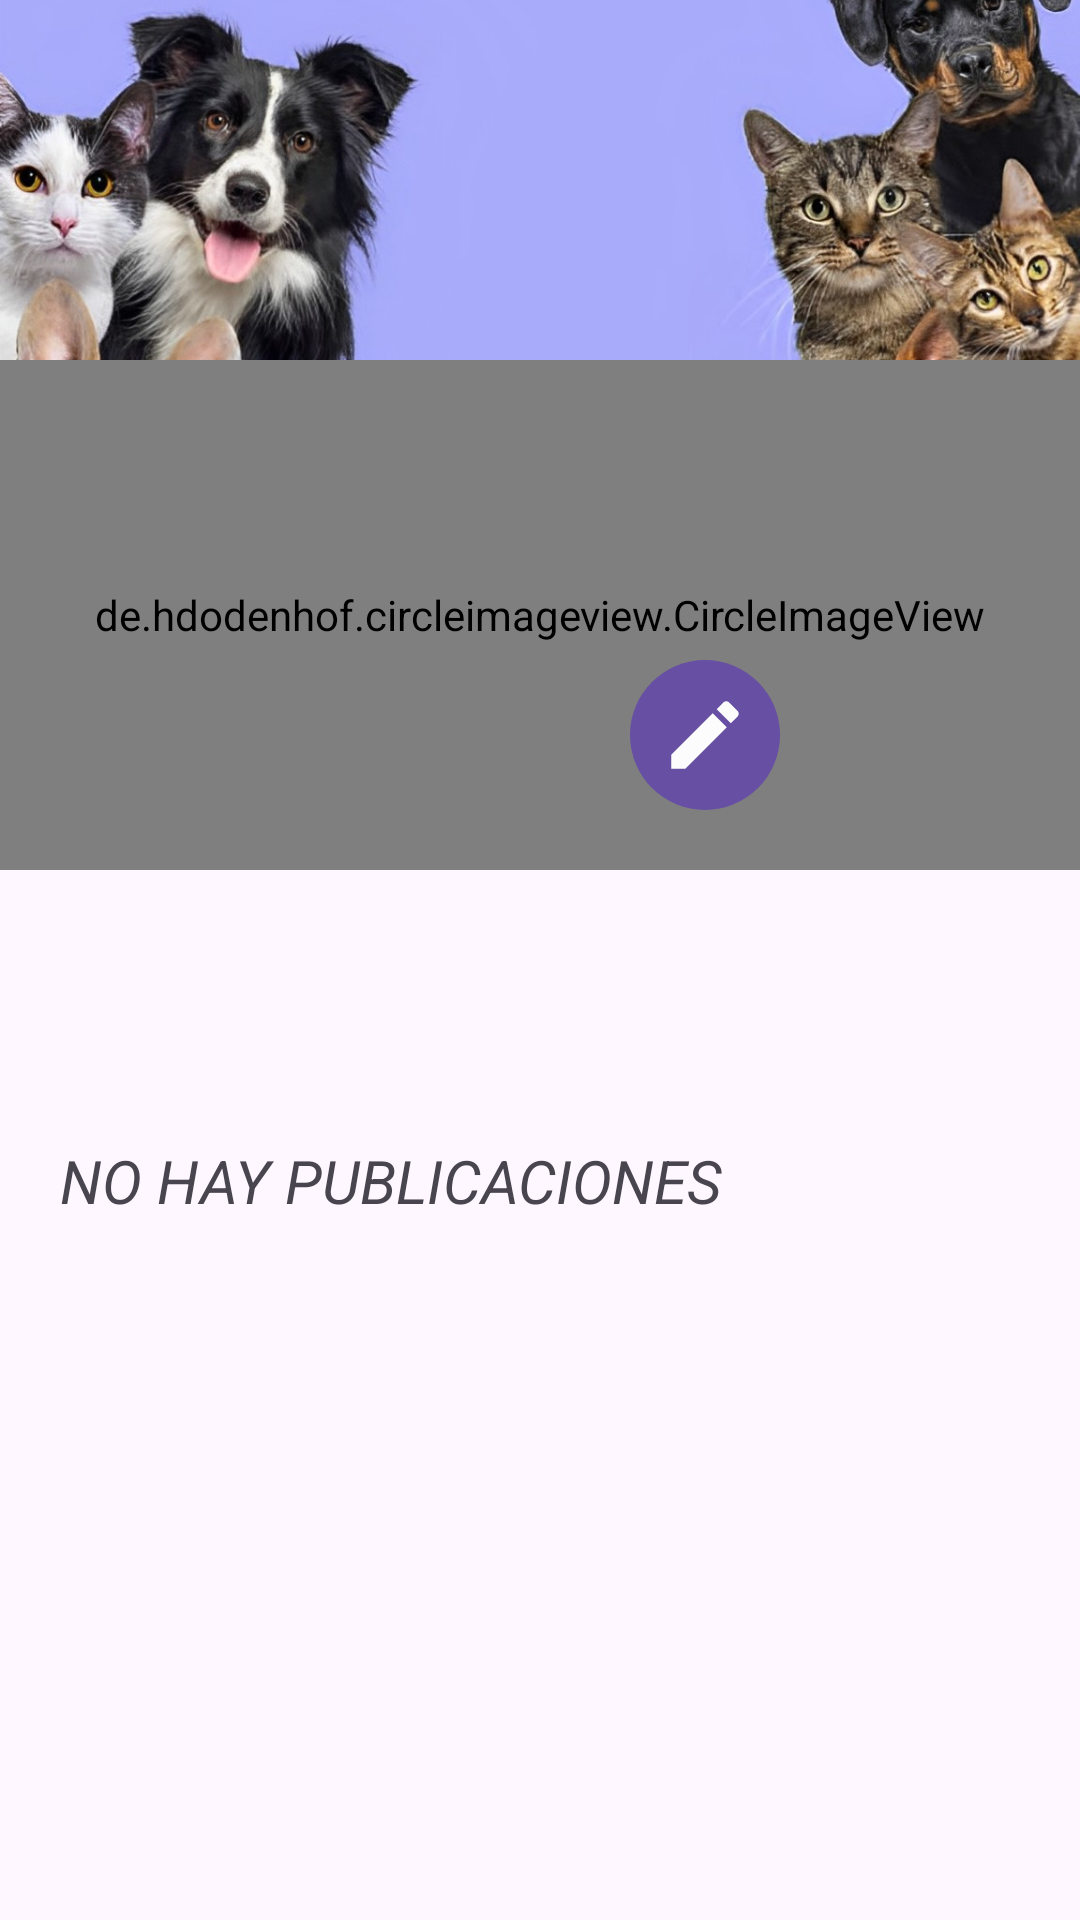

Point at icon controls on the screen. Image size 1080px×1920px, points as (x=x, y=y).
edit: (x=705, y=735)
